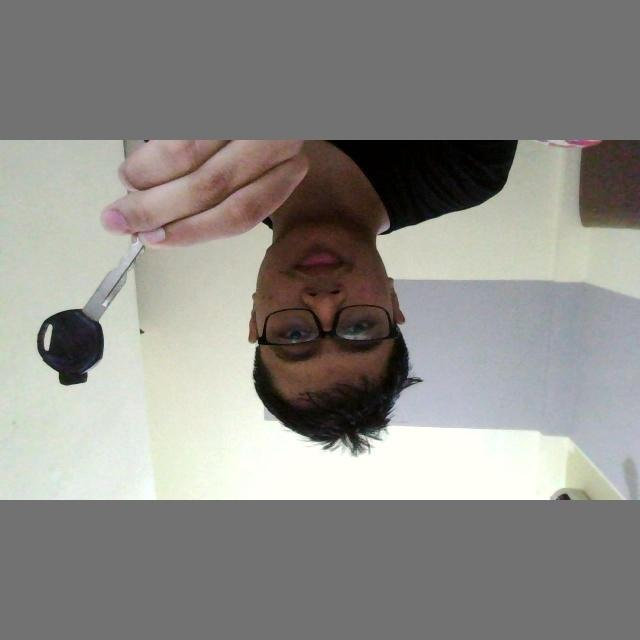Keys: (34, 230, 150, 390)
